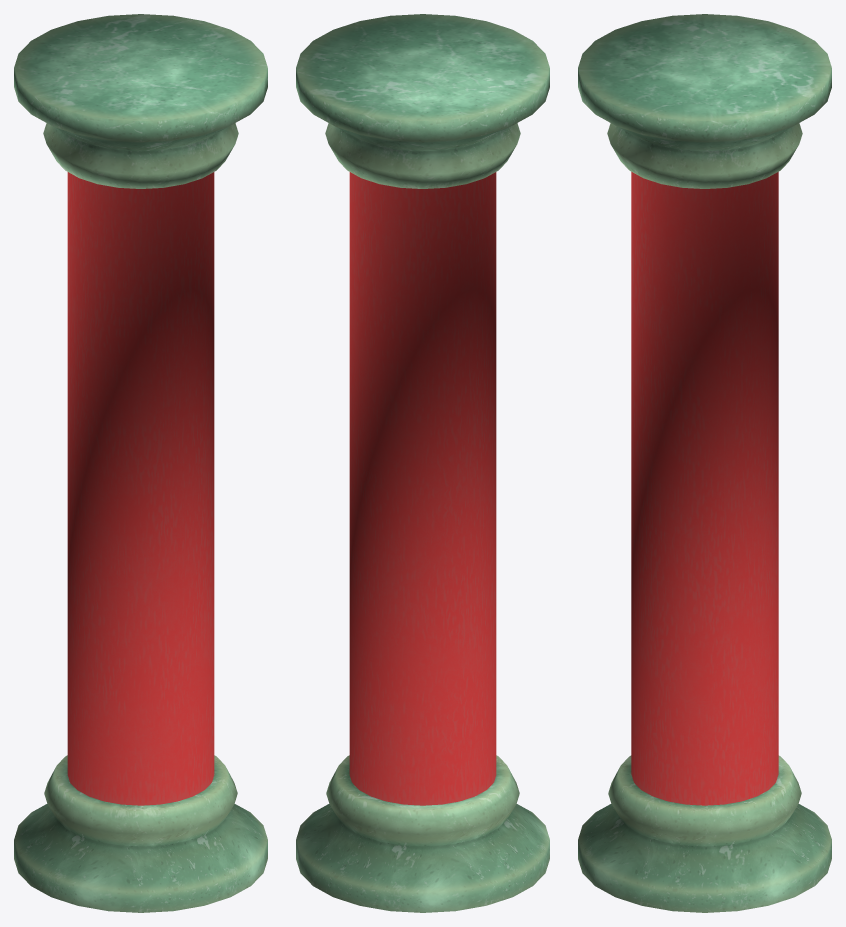
The model's file is pillar.glb.
3 renders of one model, left to right at view 1: azimuth 30°, elevation 25°; view 2: azimuth 150°, elevation 25°; view 3: azimuth 270°, elevation 25°, orthographic.
Visible parts, largest first — view 1: Pillar_low__0; view 2: Pillar_low__0; view 3: Pillar_low__0.
Part boxes in pixels (<box>): Pillar_low__0: <box>14,14,267,912</box>; Pillar_low__0: <box>296,14,549,912</box>; Pillar_low__0: <box>578,14,831,912</box>.
Size of the model in its own units: 5.64 by 19.4 by 5.64.
1 material, 1 textured.
